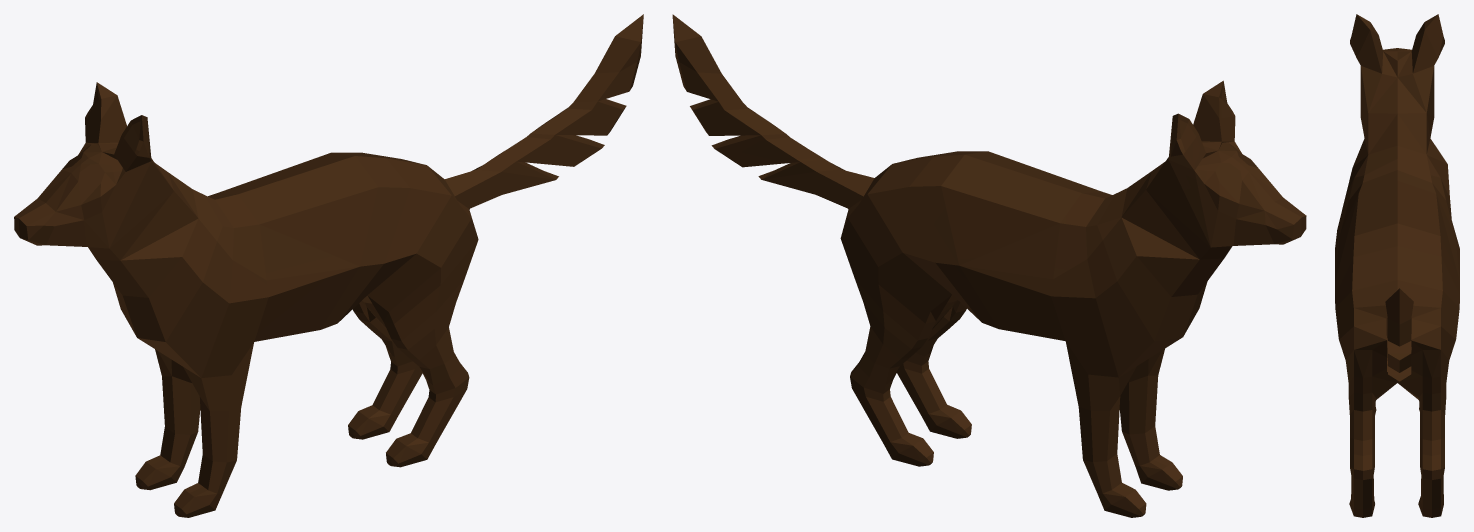
File: Doggo FINISH.fbx
3 views of the same model, side by side, from view 1: azimuth 30°, elevation 25°; view 2: azimuth 150°, elevation 25°; view 3: azimuth 270°, elevation 25° (orthographic). The views are drawn at different scales.
Visible parts, largest first — view 1: Doggo; view 2: Doggo; view 3: Doggo.
Boxes of the visible parts, <box> form: Doggo: <box>14,14,643,517</box>; Doggo: <box>672,14,1306,517</box>; Doggo: <box>1335,14,1459,517</box>.
Size of the model in its own units: 436 by 276 by 82.8.
